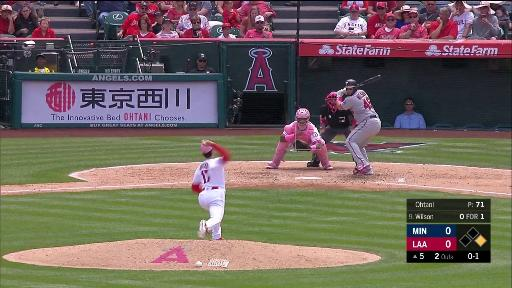pitcher: (190, 139, 233, 241)
